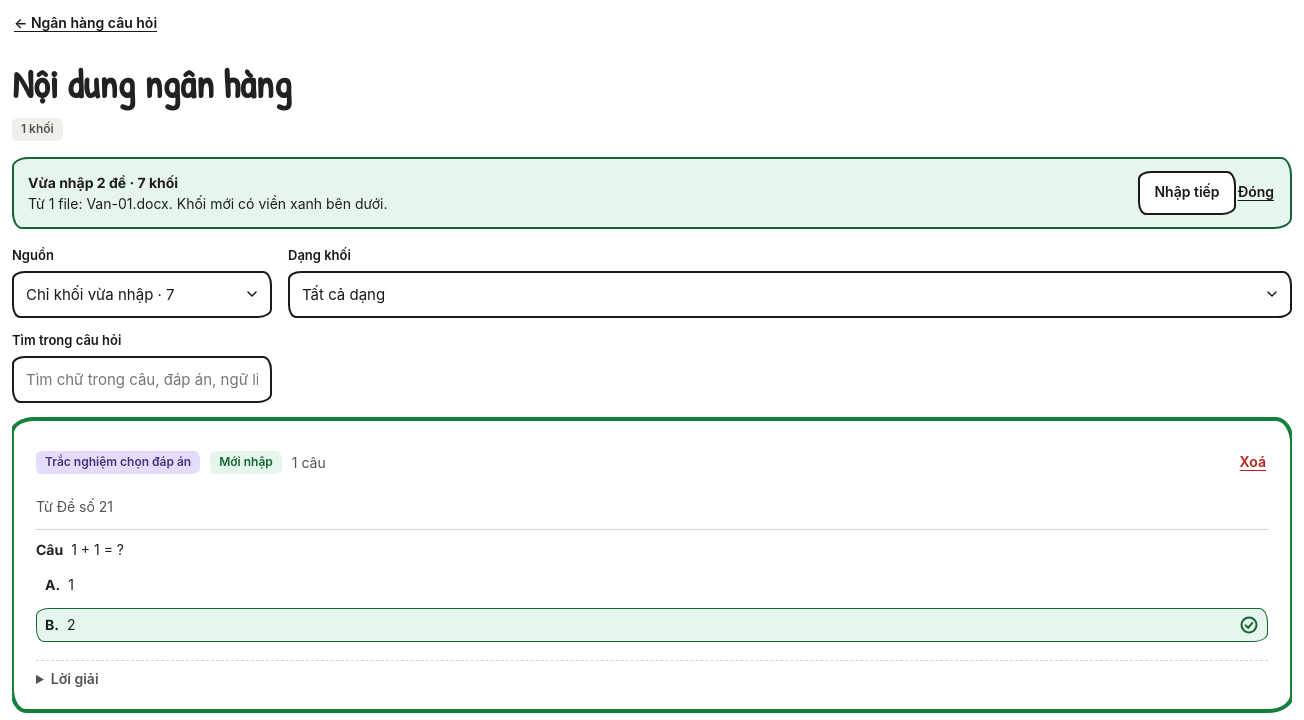
Test case: BankBlocks after an import (BF-03) › opens on "Chỉ khối vừa nhập": sends since, marks the blocks, shows the source; "Tất cả đề" drops since
Expected: the text "Mới nhập" is shown, [210,451,282,474]
Expected: the text "Từ Đề số 21" is shown, [36,498,113,515]
Select "Tất cả đề" in the dropdown labelled "Nguồn": [142, 294] box [12,271,272,318]
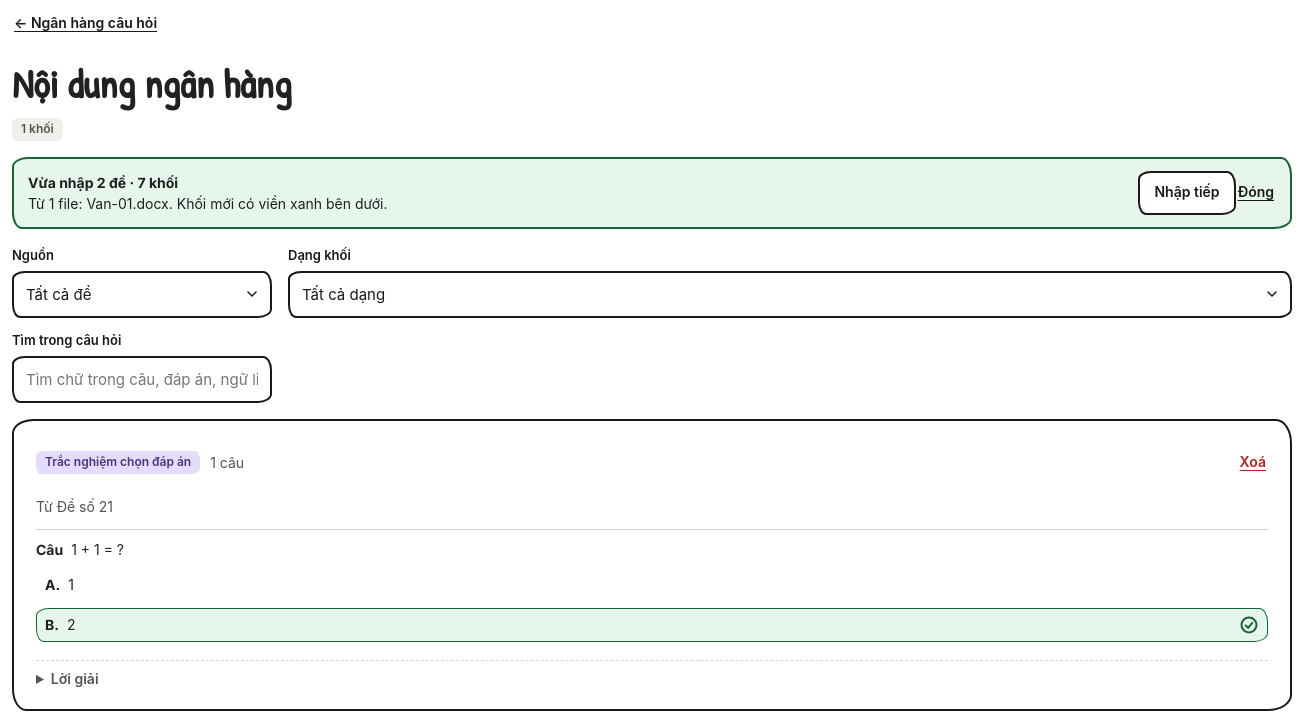
Expected: the text "Mới nhập" is gone
